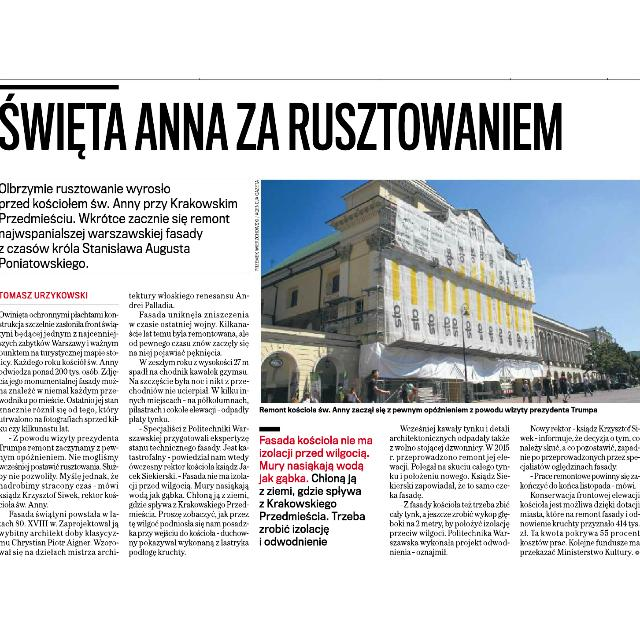author: (0, 288, 92, 302)
body: (127, 288, 253, 560), (0, 310, 122, 558), (382, 422, 514, 558), (518, 422, 640, 560), (257, 424, 377, 550)
caption: (258, 405, 604, 415)
image: (260, 179, 640, 405)
lead: (0, 182, 242, 272)
title: (1, 91, 582, 160)
